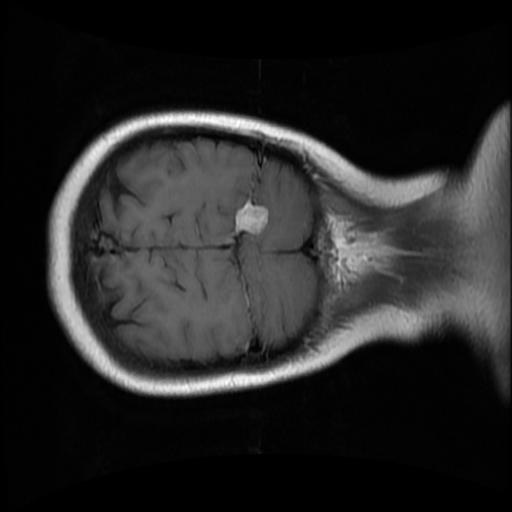meningioma: (233, 200, 268, 235)
